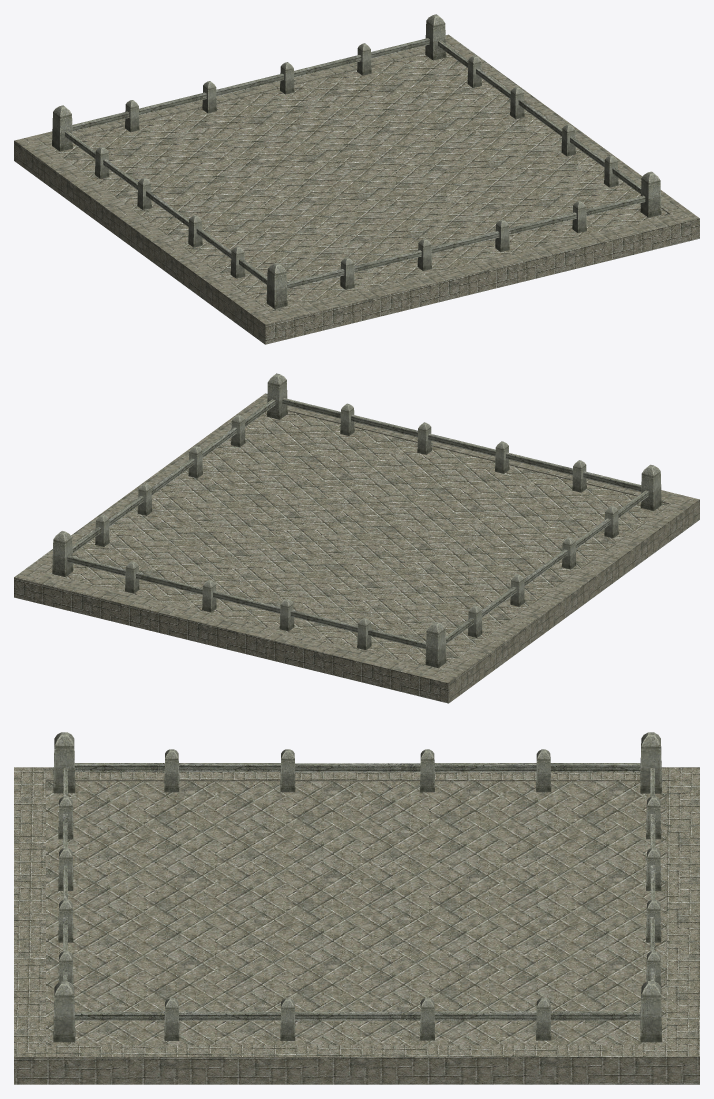
File: ring.fbx
The picture shows the model from 3 angles, top to bottom: view 1: azimuth 30°, elevation 25°; view 2: azimuth 150°, elevation 25°; view 3: azimuth 270°, elevation 25°; orthographic projection. The views are drawn at different scales.
Parts seen in each view (by area): view 1: ring, Object02; view 2: ring, Object02; view 3: ring, Object02.
Part boxes in pixels (x1,y1,x2,y2): ring: [14, 34, 699, 344]; Object02: [52, 14, 661, 308]; ring: [14, 393, 699, 703]; Object02: [52, 373, 661, 668]; ring: [14, 767, 699, 1084]; Object02: [53, 732, 661, 1042].
Bounding box in the file's own units: 40.54 × 5.34 × 40.58.
